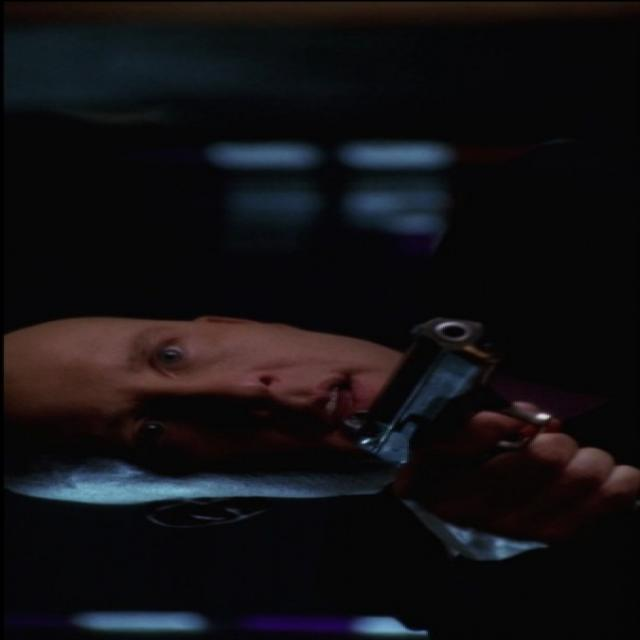weapons: (318, 299, 632, 525)
